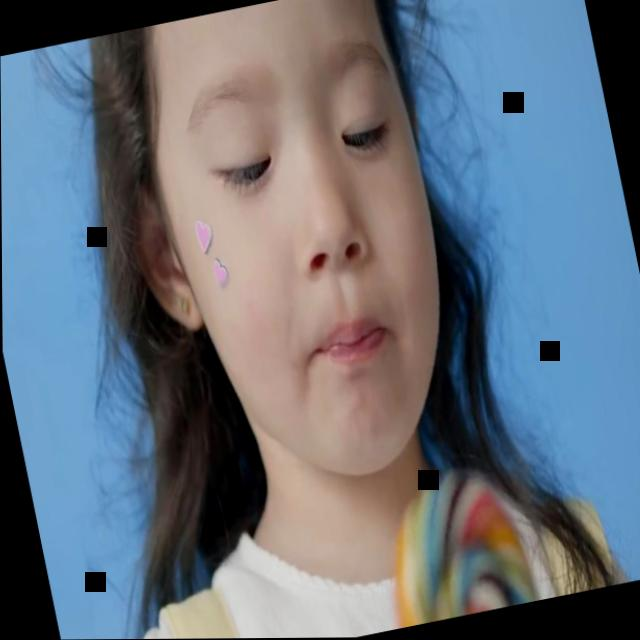NO-Mask: (124, 0, 479, 508)
